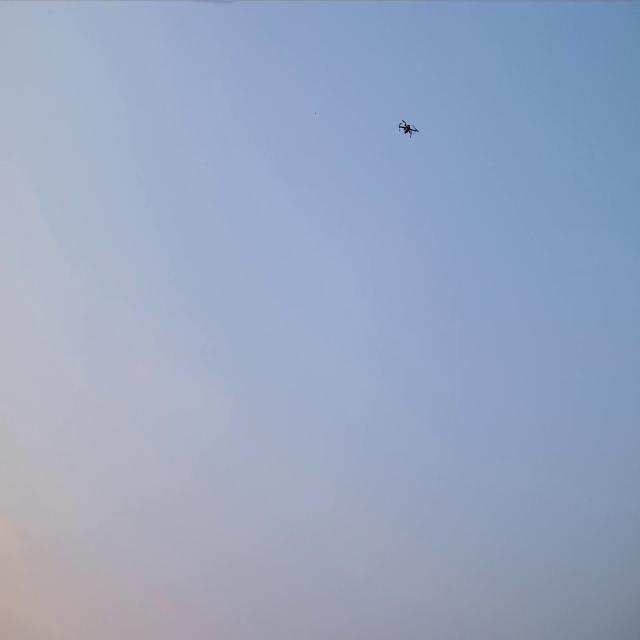UAV: (399, 120, 417, 136)
